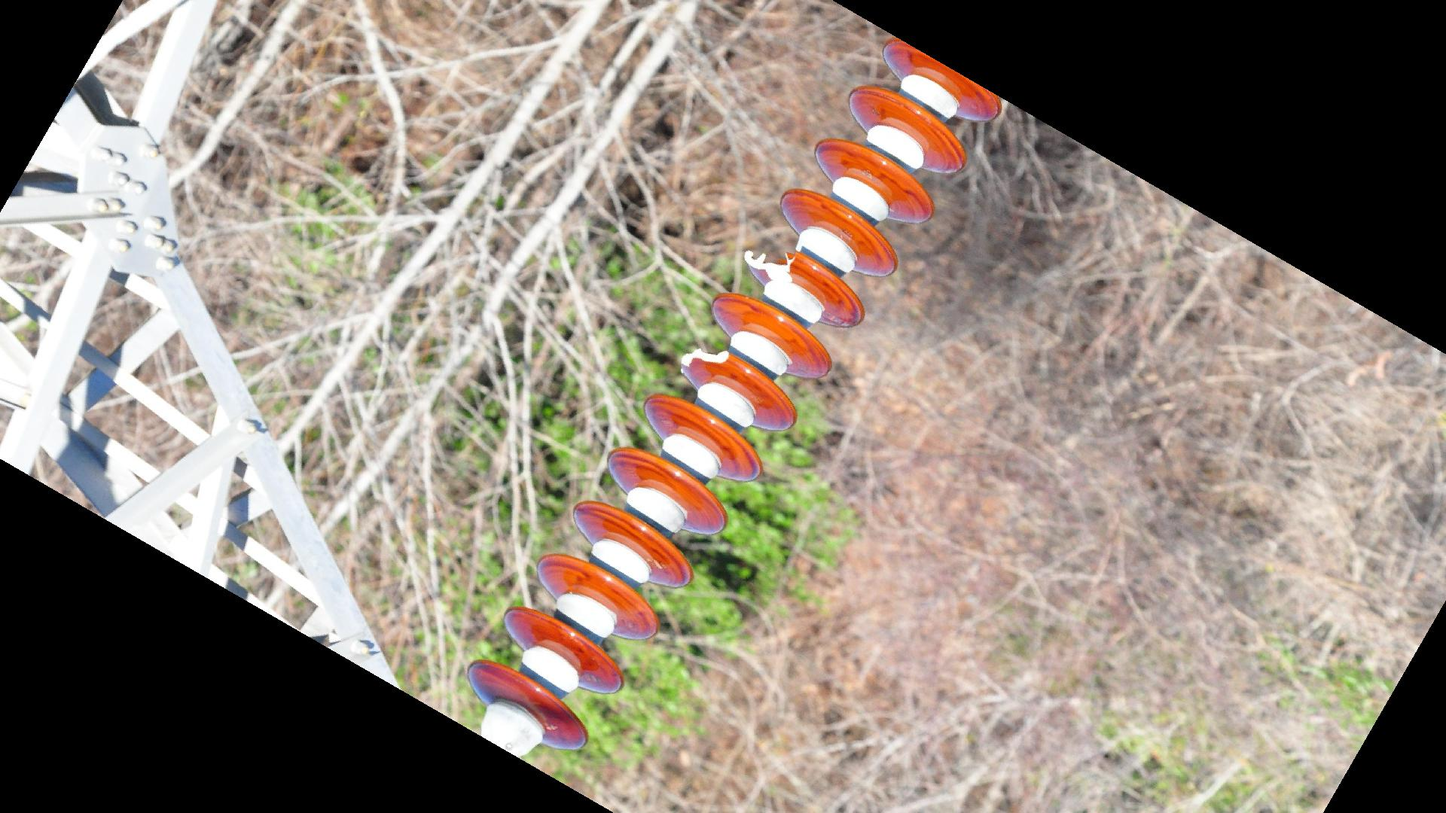insulator: (462, 32, 1013, 757)
insulator_breakage: (734, 241, 805, 279), (673, 343, 739, 382)
